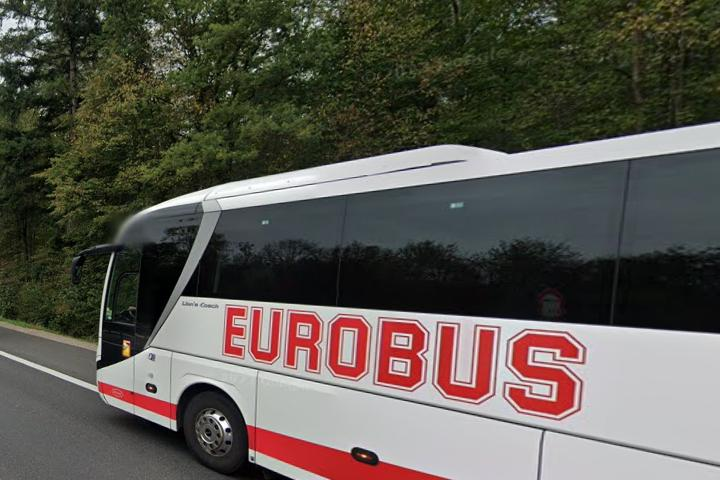traffic_sign: (536, 286, 564, 315)
vehicle: (70, 115, 720, 480)
